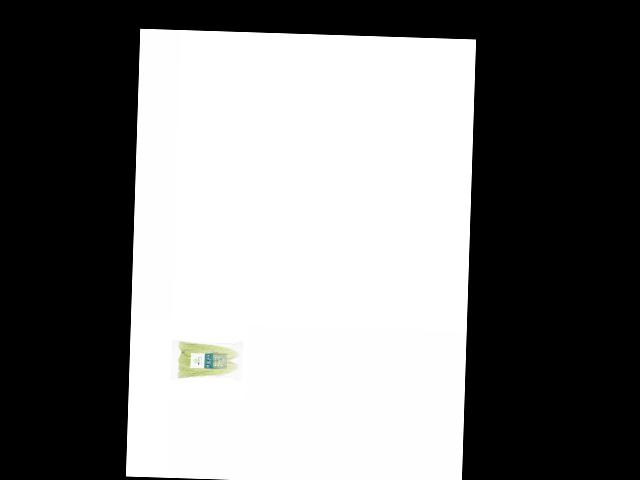lettuce: (175, 336, 240, 380)
